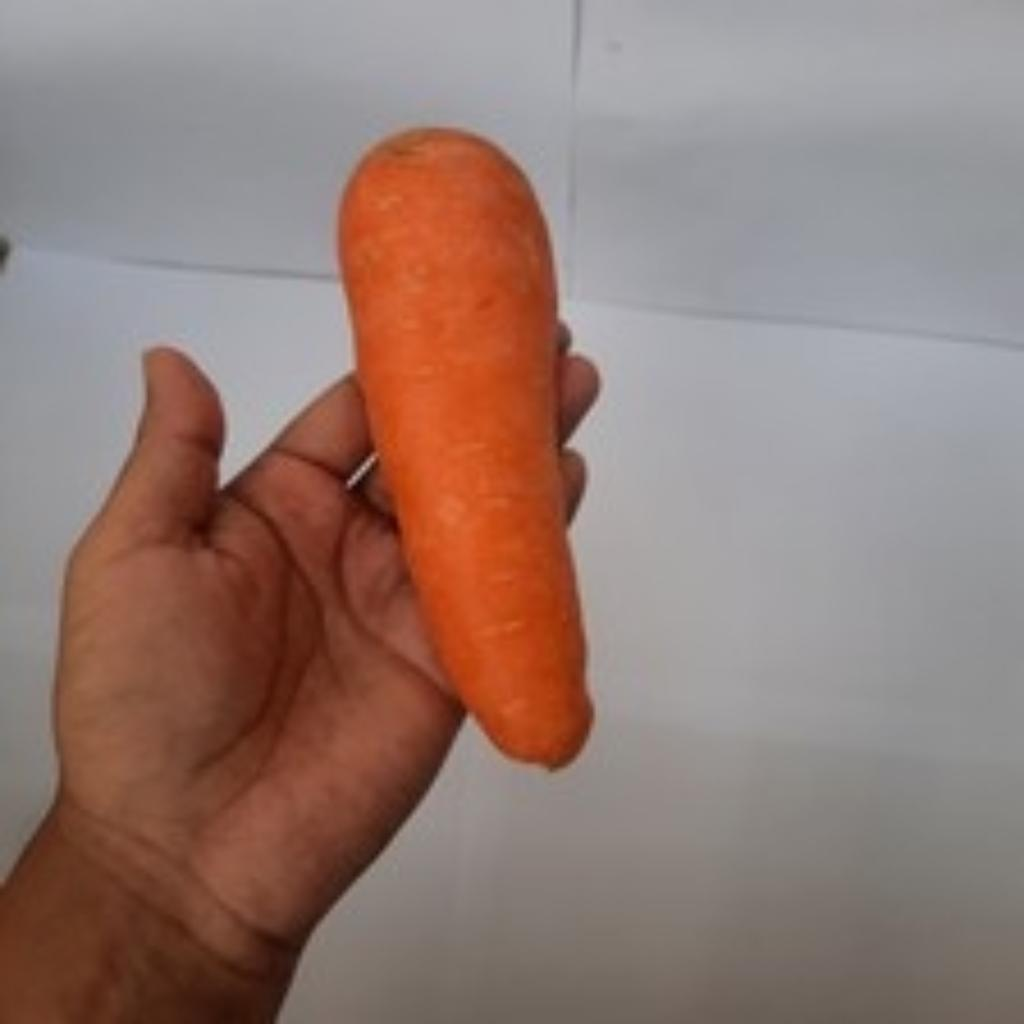carrot: (334, 123, 581, 759)
